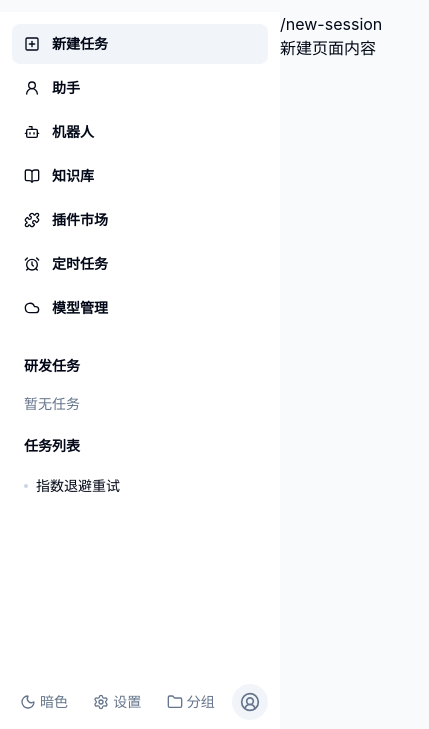
WorkspaceLayout › navigates to the knowledge base page from the guada sidebar
Click the button "知识库": [140, 176] box 12,156 -> 268,196
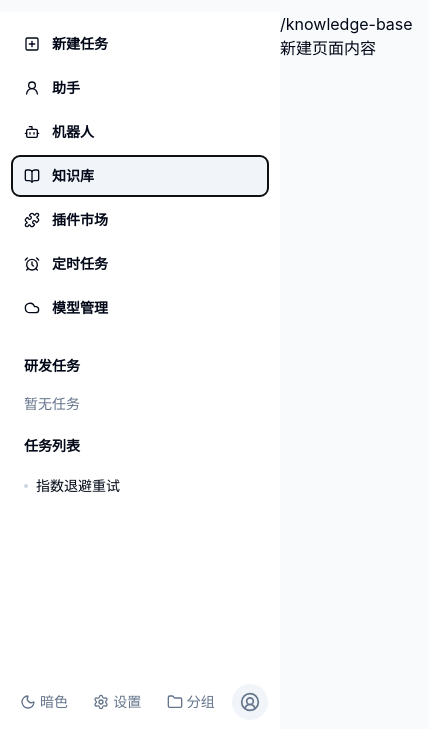
Result: the text with test id "location-path" reads "/knowledge-base" at 280,14 -> 413,34
